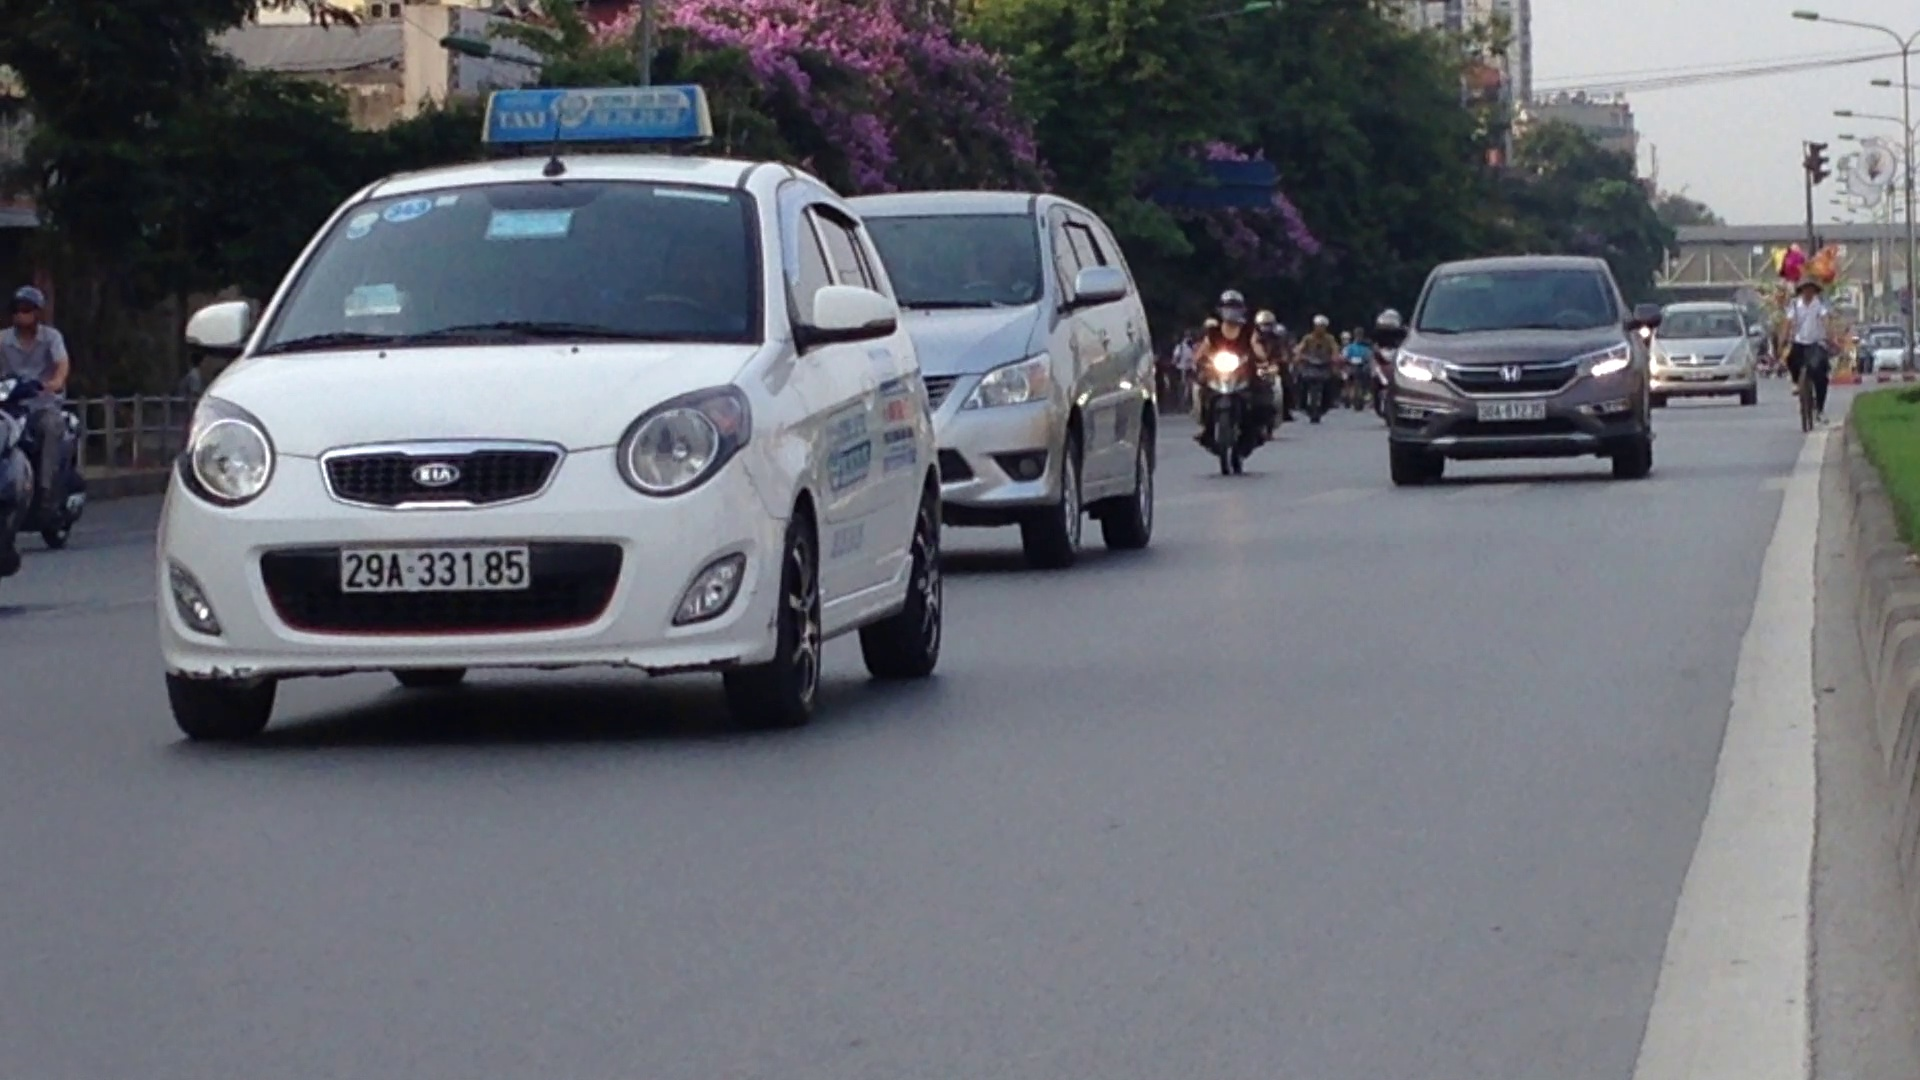person: (336, 543, 537, 591), (1471, 397, 1547, 425)
